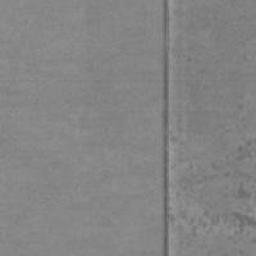Welding line: (161, 0, 172, 256)
